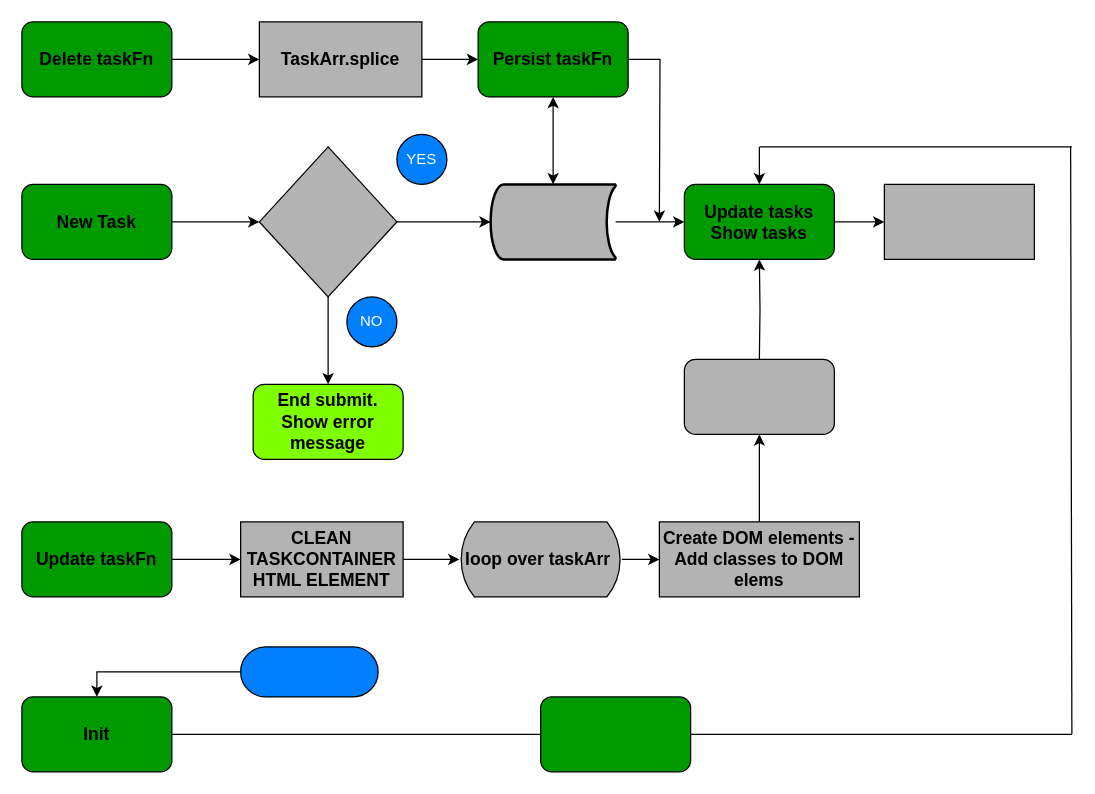
This 1095x794 diagram has some shape labels left out. Here are the shapes that lost their labels. From the top down, the box of each, then its label:
(258, 146, 397, 297): Is a truthy task?
(489, 182, 616, 260): Task Array
(883, 183, 1034, 259): CLEAN INPUT TASK FIELD
(683, 358, 834, 434): Add task to taskContainer DOM element
(239, 646, 378, 697): Page load
(539, 696, 691, 772): Get local storage
